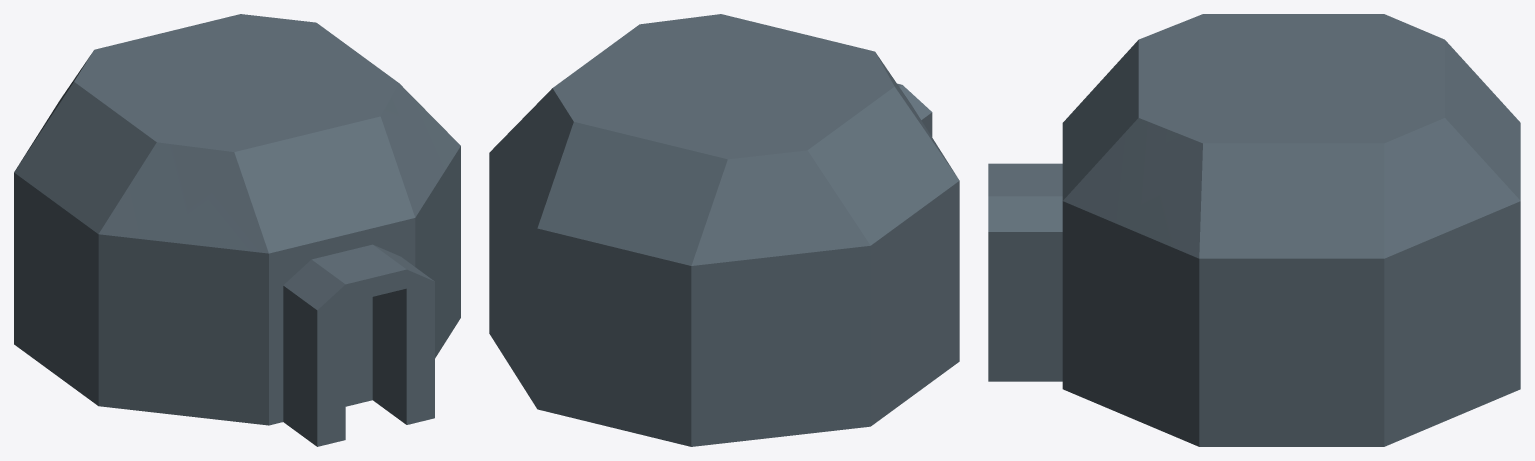
File: Tank Turret.fbx
The picture shows the model from 3 angles, left to right: view 1: azimuth 30°, elevation 25°; view 2: azimuth 150°, elevation 25°; view 3: azimuth 270°, elevation 25°; orthographic projection. The views are drawn at different scales.
Visible parts, largest first — view 1: Tank_Turret; view 2: Tank_Turret; view 3: Tank_Turret.
Part boxes in pixels (x1,y1,x2,y2): Tank_Turret: (14,14,460,446); Tank_Turret: (489,14,959,446); Tank_Turret: (988,14,1520,446).
Size of the model in its own units: 0.5007 by 0.3274 by 0.5822.
